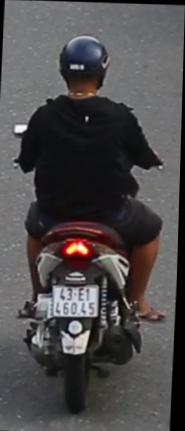LP: (51, 278, 102, 318)
helmet: (56, 30, 111, 103)
